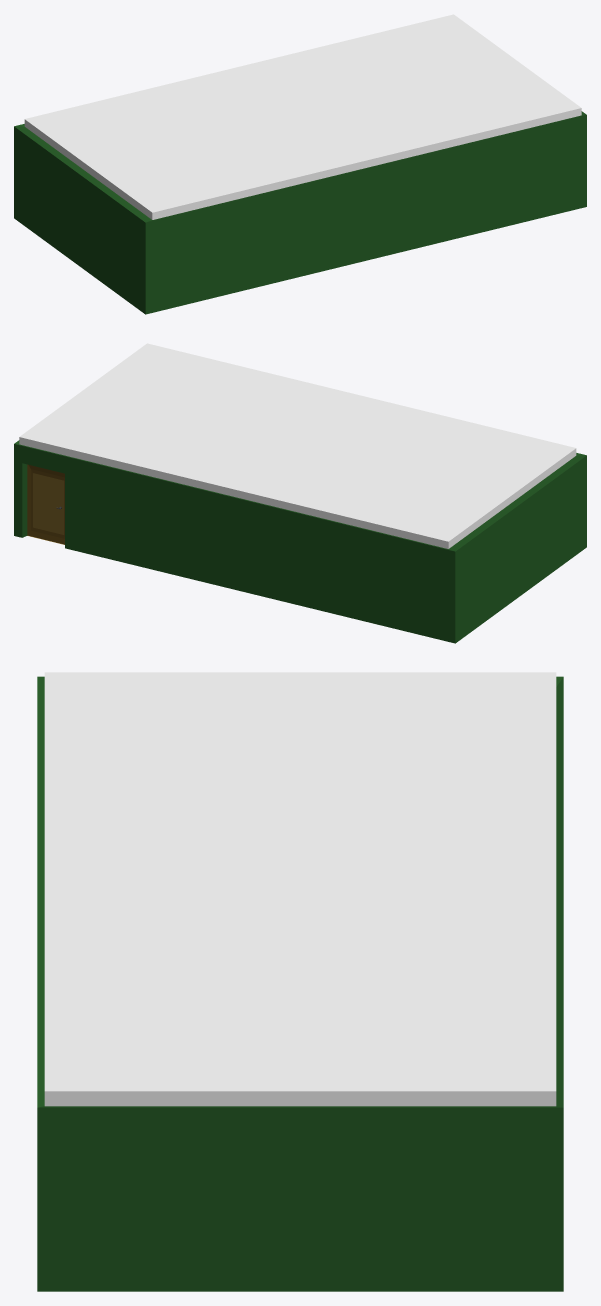
The model's file is hisset.fbx.
3 views of the same model, one above another, from view 1: azimuth 30°, elevation 25°; view 2: azimuth 150°, elevation 25°; view 3: azimuth 270°, elevation 25° (orthographic). The views are drawn at different scales.
Parts seen in each view (by area): view 1: duvarlar.001, duvarlar; view 2: duvarlar.001, duvarlar, İÇKAPU, DIŞKAPI; view 3: duvarlar.001, duvarlar.
Boxes of the visible parts, x1=… form: duvarlar.001: x1=24, y1=14, x2=581, y2=219; duvarlar: x1=14, y1=111, x2=586, y2=314; duvarlar.001: x1=19, y1=343, x2=576, y2=548; duvarlar: x1=14, y1=440, x2=586, y2=643; İÇKAPU: x1=33, y1=473, x2=64, y2=534; DIŞKAPI: x1=27, y1=464, x2=64, y2=544; duvarlar.001: x1=44, y1=672, x2=556, y2=1106; duvarlar: x1=37, y1=676, x2=563, y2=1291.
Size of the model in its own units: 3188 by 679 by 1645.
